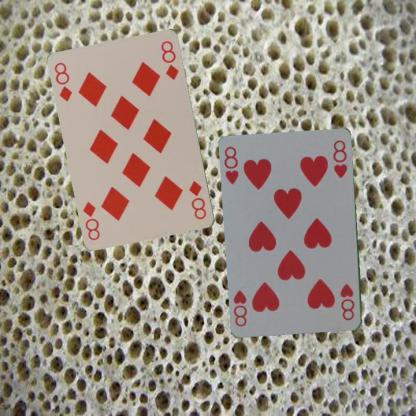8d: (52, 59, 74, 103), (187, 178, 208, 221)
8h: (337, 281, 356, 322), (222, 144, 240, 186)
